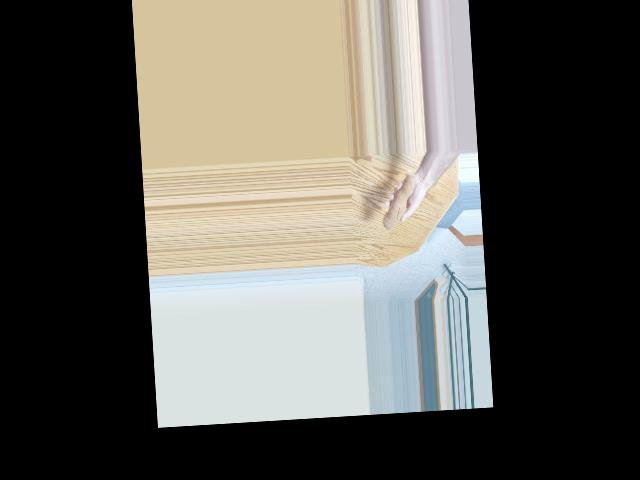sweet_potato: (379, 168, 423, 231)
